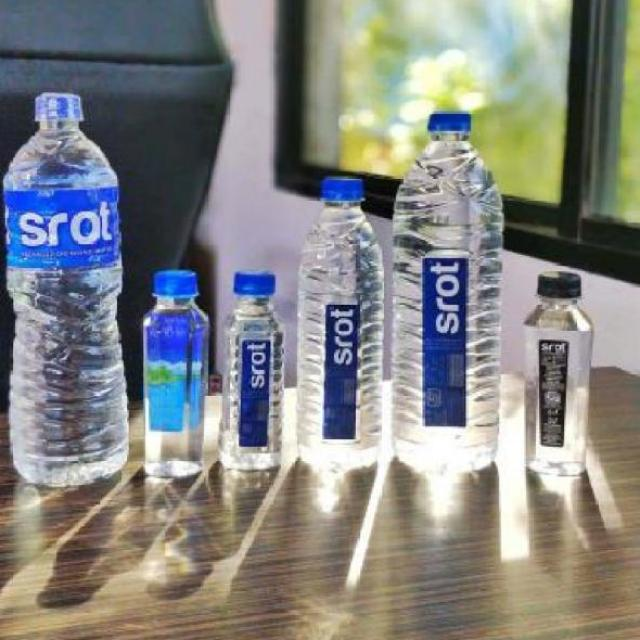plastik: (4, 92, 129, 486), (393, 111, 503, 471), (298, 177, 383, 469), (524, 271, 594, 476), (143, 270, 209, 478), (219, 271, 283, 470)
